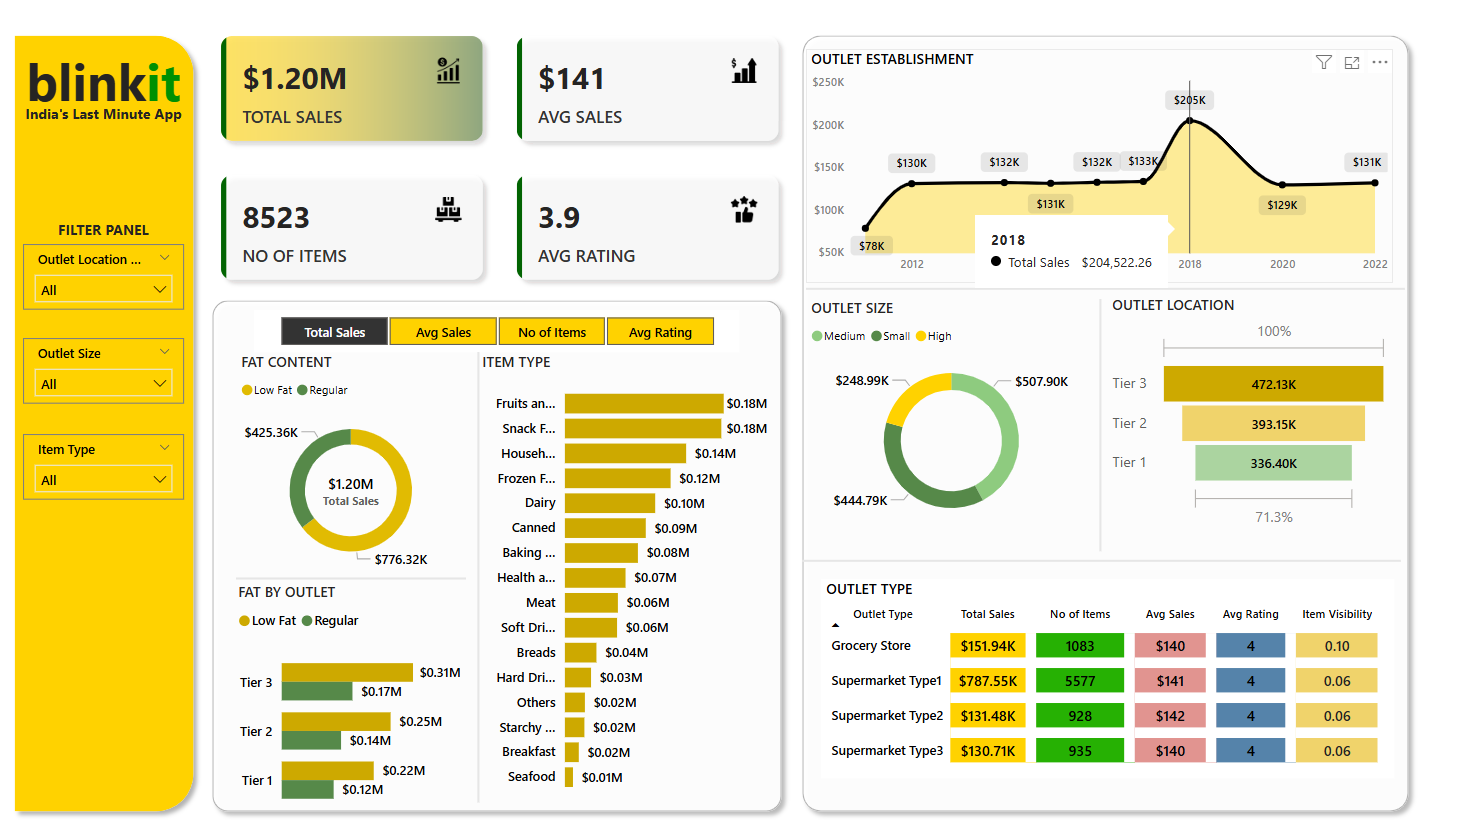

The page's visual inventory and layout, read from the dashboard file:
{"tool":"powerbi","page":{"name":"Page 1","canvas":[1400,800],"ordinal":0},"visuals":[{"type":"shape","box":[7.5,24.5,186.8,750],"z":0},{"type":"textbox","box":[316.3,697.7,205.6,76.3],"z":1000},{"type":"textbox","box":[16,38.7,168.9,82.1],"z":2000},{"type":"textbox","box":[16,93.4,168.9,27.4],"z":3000},{"type":"cardVisual","fields":{"Data":["BlinkIT Grocery Data.Total Sales","BlinkIT Grocery Data.Avg Sales","BlinkIT Grocery Data.No of Items","BlinkIT Grocery Data.Avg Rating"]},"box":[194.3,17,561.3,264.2],"z":4000},{"type":"shape","box":[194.3,274.5,554.7,500],"z":5000},{"type":"donutChart","title":"FAT CONTENT","fields":{"Y":["BlinkIT Grocery Data.Total Sales"],"Category":["BlinkIT Grocery Data.Item Fat Content"]},"box":[225.5,332.1,217,217],"z":6000},{"type":"slicer","fields":{"Values":["Metrics.Metrics"]},"box":[242.5,292.5,457.5,39.6],"z":7000},{"type":"cardVisual","fields":{"Data":["BlinkIT Grocery Data.Total Sales"]},"box":[278.3,427.4,111.3,71.7],"z":8000},{"type":"clusteredBarChart","title":"FAT BY OUTLET","fields":{"Y":["BlinkIT Grocery Data.Total Sales"],"Category":["BlinkIT Grocery Data.Outlet Location Type"],"Series":["BlinkIT Grocery Data.Item Fat Content"]},"box":[222.6,549.1,219.8,230.2],"z":9000},{"type":"shape","box":[225.5,542.5,217,6.6],"z":10000},{"type":"shape","box":[448.1,332.1,12.3,425.5],"z":11000},{"type":"barChart","title":"ITEM TYPE","fields":{"Y":["BlinkIT Grocery Data.Total Sales"],"Category":["BlinkIT Grocery Data.Item Type"]},"box":[452.8,332.1,279.2,425.5],"z":12000},{"type":"shape","box":[750.9,24.5,589.6,750],"z":13000},{"type":"lineChart","title":"OUTLET ESTABLISHMENT","fields":{"Y":["BlinkIT Grocery Data.Total Sales"],"Category":["BlinkIT Grocery Data.Outlet Establishment Year"]},"box":[763.2,46.2,553.8,220.8],"z":14000},{"type":"donutChart","title":"OUTLET SIZE","fields":{"Y":["BlinkIT Grocery Data.Total Sales"],"Category":["BlinkIT Grocery Data.Outlet Size"]},"box":[763.2,281.1,275.5,225.5],"z":15000},{"type":"shape","box":[1034.9,282.1,12.3,237.7],"z":16000},{"type":"funnel","title":"OUTLET LOCATION","fields":{"Y":["Sum(BlinkIT Grocery Data.Sales)"],"Category":["BlinkIT Grocery Data.Outlet Location Type"]},"box":[1047.2,278.3,270.8,225],"z":17000},{"type":"shape","box":[763.2,267,565.1,11.3],"z":18000},{"type":"shape","box":[759.4,523.6,565.1,11.3],"z":19000},{"type":"pivotTable","title":"OUTLET TYPE","fields":{"Rows":["BlinkIT Grocery Data.Outlet Type"],"Values":["BlinkIT Grocery Data.Total Sales","BlinkIT Grocery Data.No of Items","BlinkIT Grocery Data.Avg Sales","BlinkIT Grocery Data.Avg Rating","Avg(BlinkIT Grocery Data.Item Visibility)"]},"box":[777.4,546.2,540.6,187.7],"z":20000},{"type":"slicer","fields":{"Values":["BlinkIT Grocery Data.Outlet Location Type"]},"box":[24.5,230.2,151.9,62.3],"z":21000},{"type":"slicer","fields":{"Values":["BlinkIT Grocery Data.Outlet Size"]},"box":[24.5,318.9,151.9,62.3],"z":22000},{"type":"slicer","fields":{"Values":["BlinkIT Grocery Data.Item Type"]},"box":[24.5,409.4,151.9,62.3],"z":23000},{"type":"textbox","box":[16,202.8,168.9,27.4],"z":24000}]}

Visuals, with their boxes in screenshot pixels (x1, y1, x2, y2), scaled from the page's 1400x800 canvas onto the 1457x832 screenshot:
shape: 8 25 202 805
textbox: 329 726 543 805
textbox: 17 40 192 126
textbox: 17 97 192 126
cardVisual - BlinkIT Grocery Data.Total Sales x BlinkIT Grocery Data.Avg Sales: 202 18 786 292
shape: 202 285 779 805
"FAT CONTENT" donutChart: 235 345 461 571
slicer - Metrics.Metrics: 252 304 728 345
cardVisual - BlinkIT Grocery Data.Total Sales: 290 444 405 519
"FAT BY OUTLET" clusteredBarChart: 232 571 460 810
shape: 235 564 461 571
shape: 466 345 479 788
"ITEM TYPE" barChart: 471 345 762 788
shape: 781 25 1395 805
"OUTLET ESTABLISHMENT" lineChart: 794 48 1371 278
"OUTLET SIZE" donutChart: 794 292 1081 527
shape: 1077 293 1090 541
"OUTLET LOCATION" funnel: 1090 289 1372 523
shape: 794 278 1382 289
shape: 790 545 1378 556
"OUTLET TYPE" pivotTable: 809 568 1372 763
slicer - BlinkIT Grocery Data.Outlet Location Type: 25 239 184 304
slicer - BlinkIT Grocery Data.Outlet Size: 25 332 184 396
slicer - BlinkIT Grocery Data.Item Type: 25 426 184 491
textbox: 17 211 192 239
